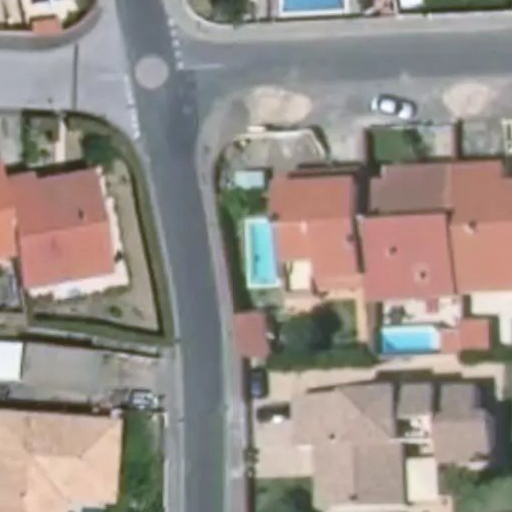pool: (236, 203, 276, 279)
